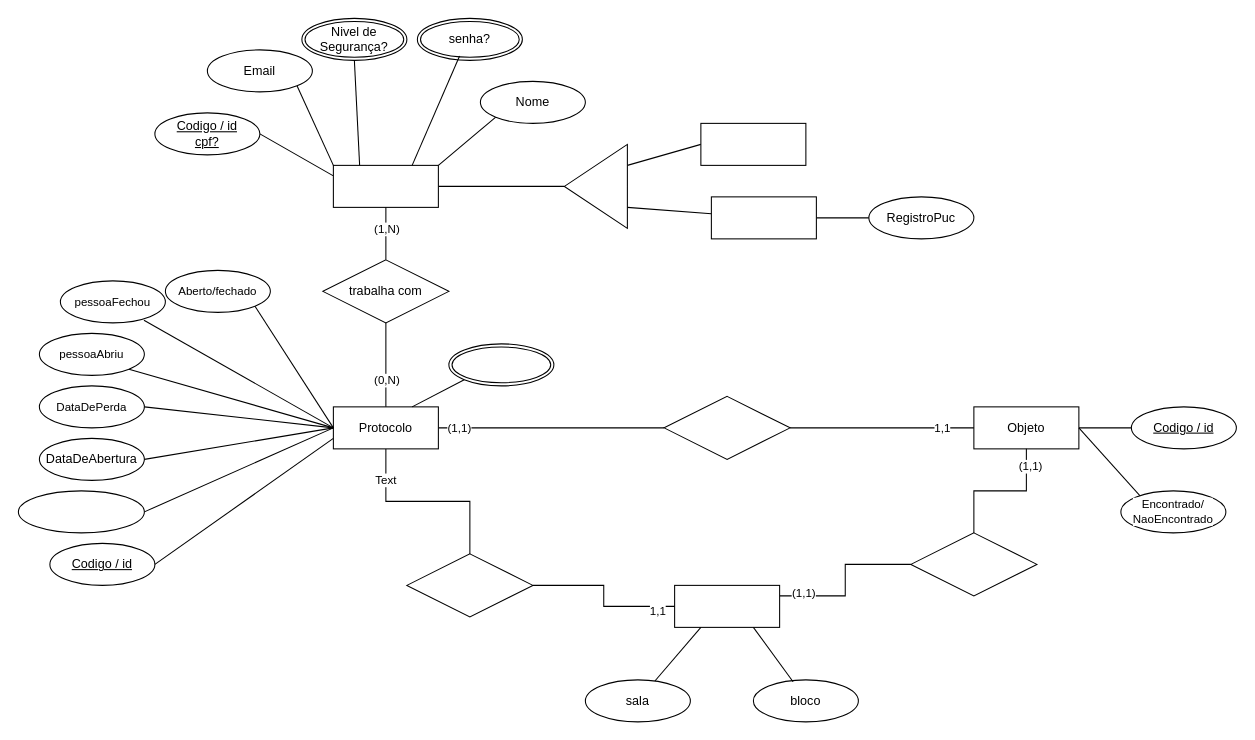
Some shapes in this 1255 by 740 pixel diagram are drawn without their labels. Each missing label, with the box of its shape:
DataDeFechamento: (17, 490, 144, 533)
encontrado no: (910, 532, 1037, 596)
Finalidade: (448, 343, 554, 386)
Funcionario: (710, 196, 816, 239)
Local: (674, 584, 780, 627)
pertence: (663, 395, 790, 459)
Pessoa: (332, 164, 438, 207)
possui: (406, 553, 533, 617)
Solicitante: (700, 122, 806, 165)
